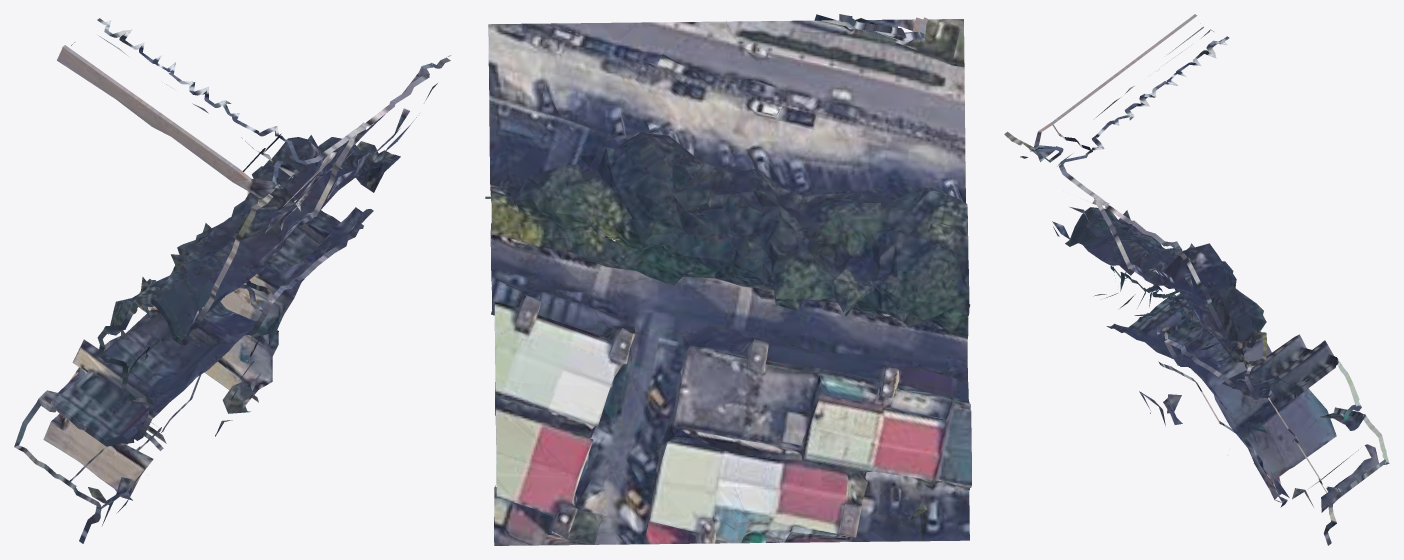
The picture shows the model from 3 angles, left to right: view 1: azimuth 30°, elevation 25°; view 2: azimuth 150°, elevation 25°; view 3: azimuth 270°, elevation 25°; orthographic projection. The views are drawn at different scales.
Bounding box in the file's own units: 83.39 × 88.73 × 75.57.
Materials: 1 (1 with a texture image).
